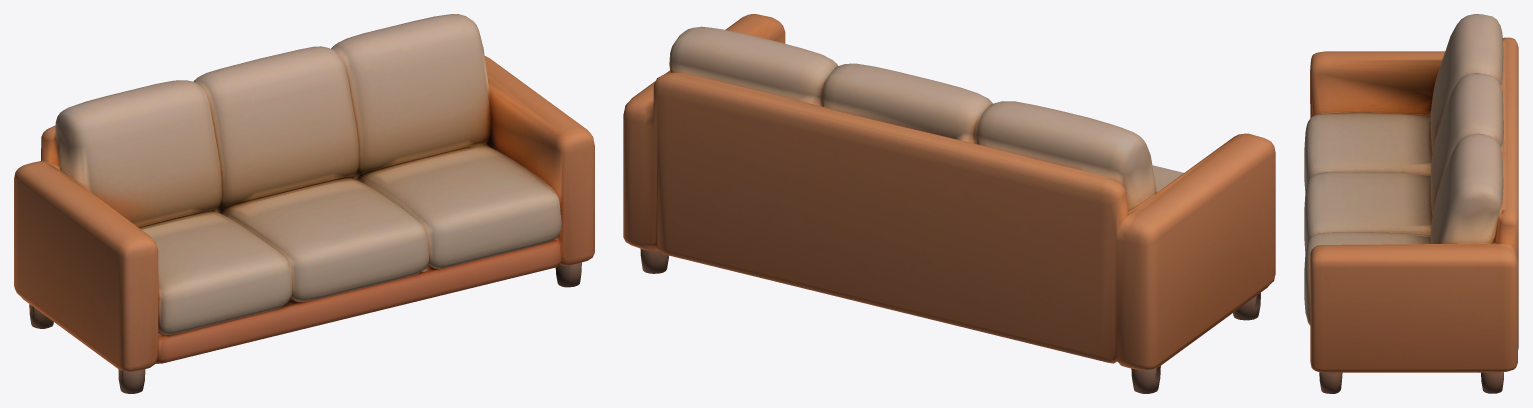
Rendered from break_room_couch_444abf63_v1.glb.
3 views of the same model, side by side, from view 1: azimuth 30°, elevation 25°; view 2: azimuth 150°, elevation 25°; view 3: azimuth 270°, elevation 25° (orthographic). The views are drawn at different scales.
Visible parts, largest first — view 1: material; view 2: material; view 3: material.
Boxes of the visible parts, bbox=[...] form: material: bbox=[14, 14, 594, 393]; material: bbox=[623, 14, 1275, 393]; material: bbox=[1304, 14, 1518, 393].
Bounding box in the file's own units: 1.9 × 0.8282 × 0.8221.
Materials: 1 (1 with a texture image).
